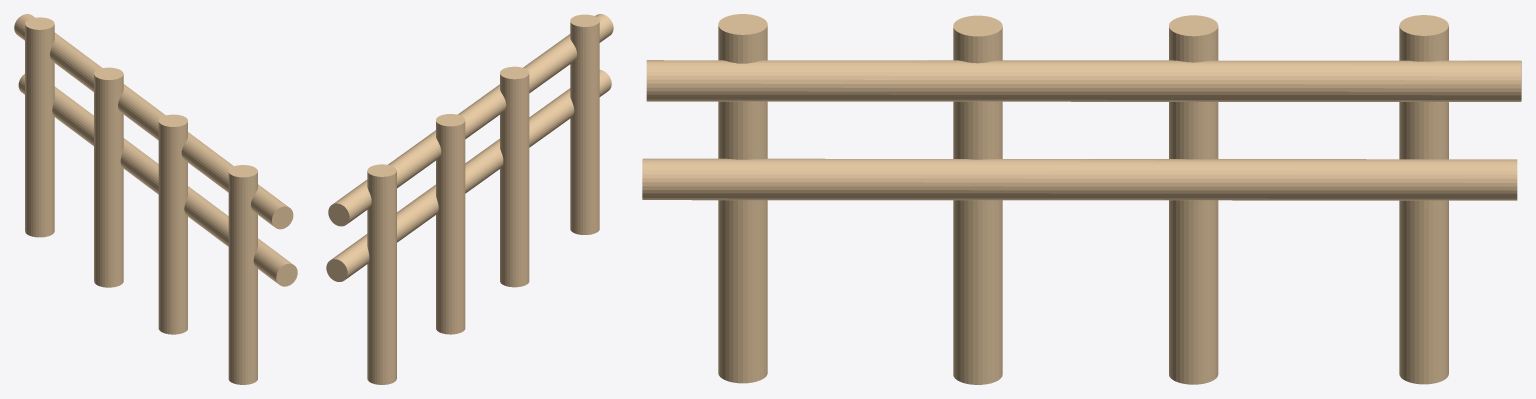
Rendered from fence.glb.
3 views of the same model, side by side, from view 1: azimuth 30°, elevation 25°; view 2: azimuth 150°, elevation 25°; view 3: azimuth 270°, elevation 25° (orthographic). The views are drawn at different scales.
Visible parts, largest first — view 1: Cylinder.002, Cylinder.001, Cylinder, Cylinder.003, Cylinder.004, Cylinder.005; view 2: Cylinder.002, Cylinder.001, Cylinder, Cylinder.003, Cylinder.004, Cylinder.005; view 3: Cylinder.005, Cylinder.004, Cylinder.003, Cylinder, Cylinder.002, Cylinder.001.
Part boxes in pixels (bbox=[...]): Cylinder.002: bbox=[25, 17, 54, 237]; Cylinder.001: bbox=[94, 67, 123, 287]; Cylinder: bbox=[158, 114, 187, 334]; Cylinder.003: bbox=[228, 165, 257, 384]; Cylinder.004: bbox=[14, 14, 293, 229]; Cylinder.005: bbox=[18, 74, 297, 286]; Cylinder.002: bbox=[367, 164, 396, 384]; Cylinder.001: bbox=[436, 114, 465, 334]; Cylinder: bbox=[500, 66, 529, 287]; Cylinder.003: bbox=[570, 14, 599, 234]; Cylinder.004: bbox=[328, 14, 613, 226]; Cylinder.005: bbox=[326, 70, 611, 281]; Cylinder.005: bbox=[642, 158, 1517, 200]; Cylinder.004: bbox=[646, 60, 1521, 101]; Cylinder.003: bbox=[718, 14, 767, 383]; Cylinder: bbox=[953, 15, 1002, 384]; Cylinder.002: bbox=[1399, 15, 1448, 384]; Cylinder.001: bbox=[1169, 15, 1218, 384].
Bounding box in the file's own units: 1.93 × 9.45 × 21.52.
